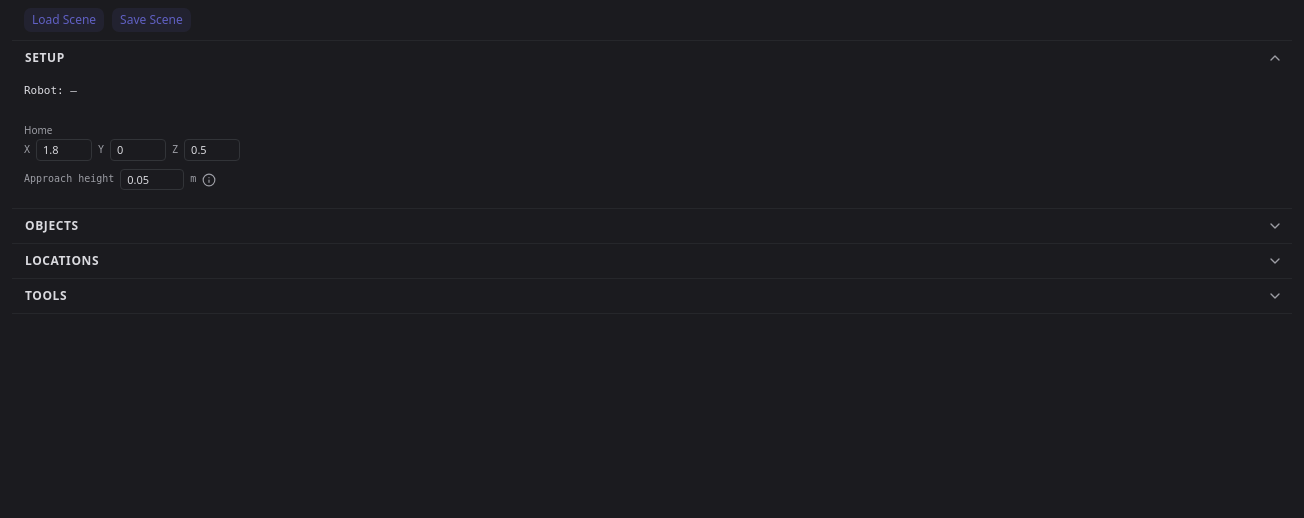
Test: Scene area — full-height SceneWorkspace (area-scene spec) › edits flow through useDomainSceneStore (addObject appears in the editor)
Step 1. Click the button "Objects" → (52, 226), box x1=12 y1=209 x2=1292 y2=243
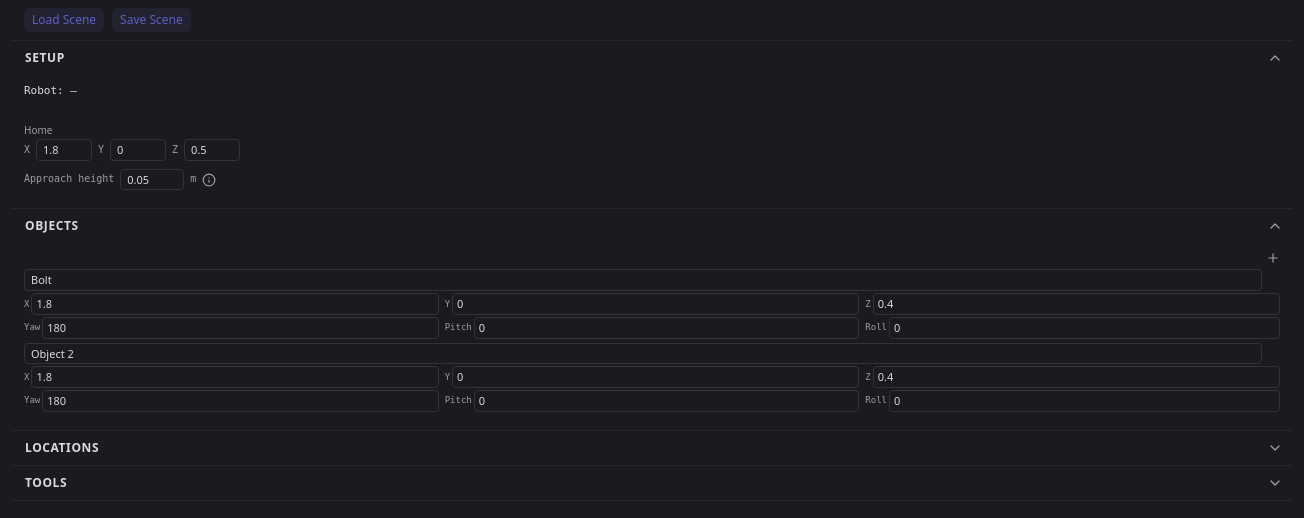
Now the 2nd field showing "Object 2" is shown, box x1=24 y1=342 x2=1262 y2=364
